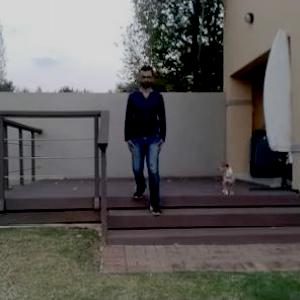follow: (123, 64, 161, 217)
